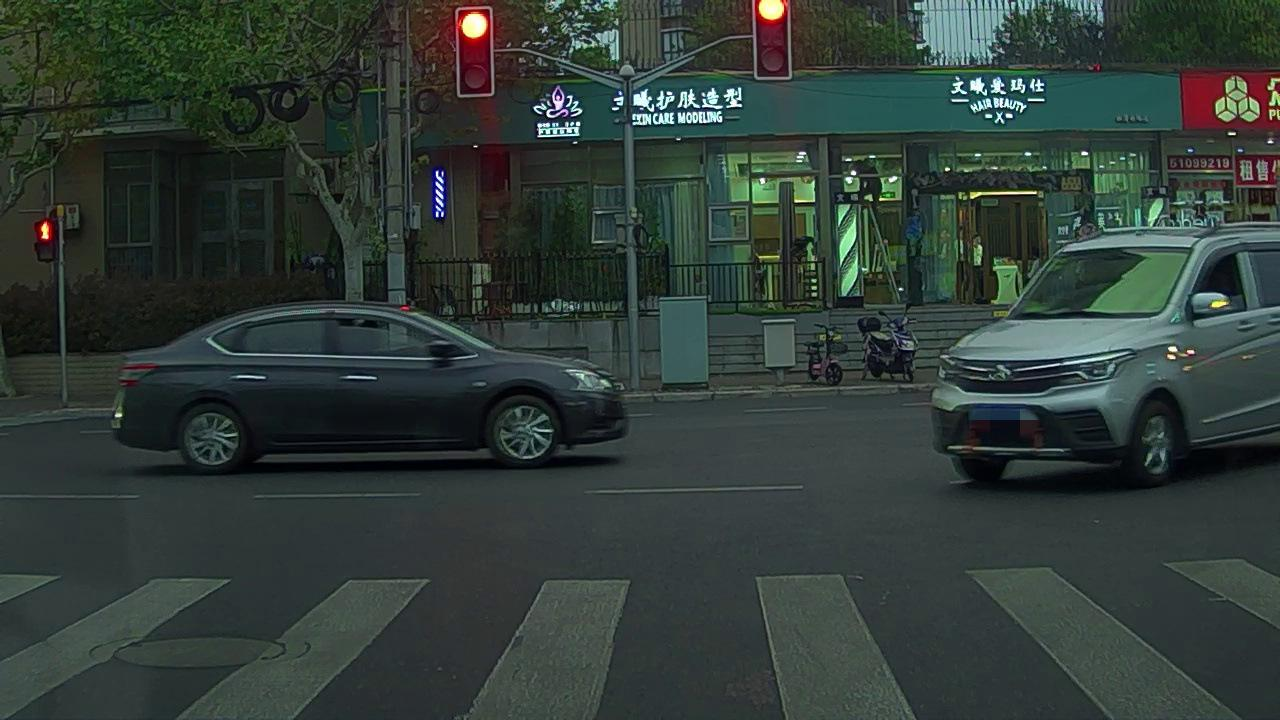traffic_light: (459, 5, 494, 97), (752, 2, 793, 80)
